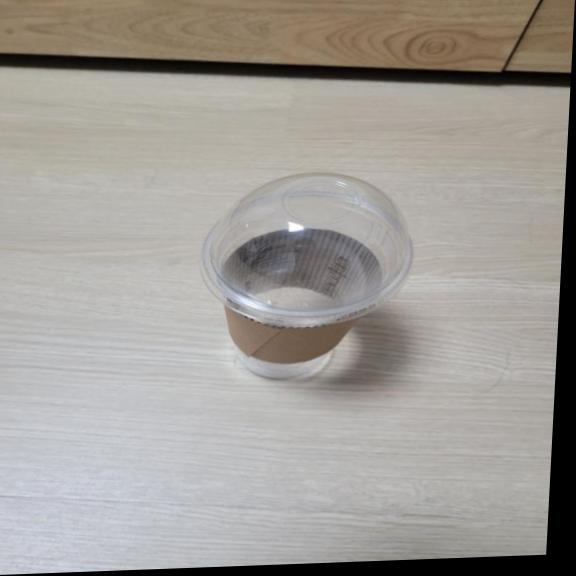Plastik: (202, 174, 413, 376)
